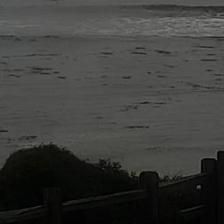surfer: (52, 0, 60, 2)
